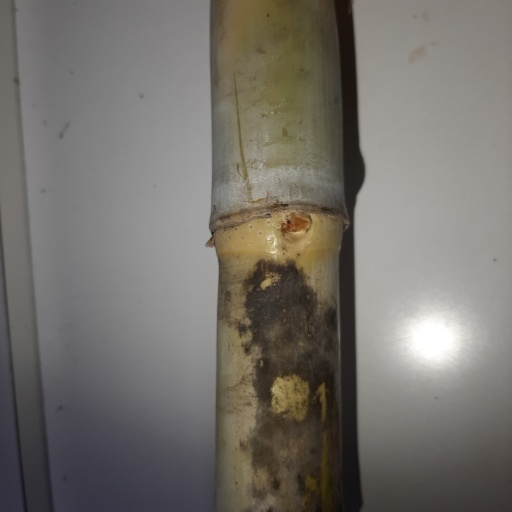Damage_Bud: (283, 214, 310, 244)
